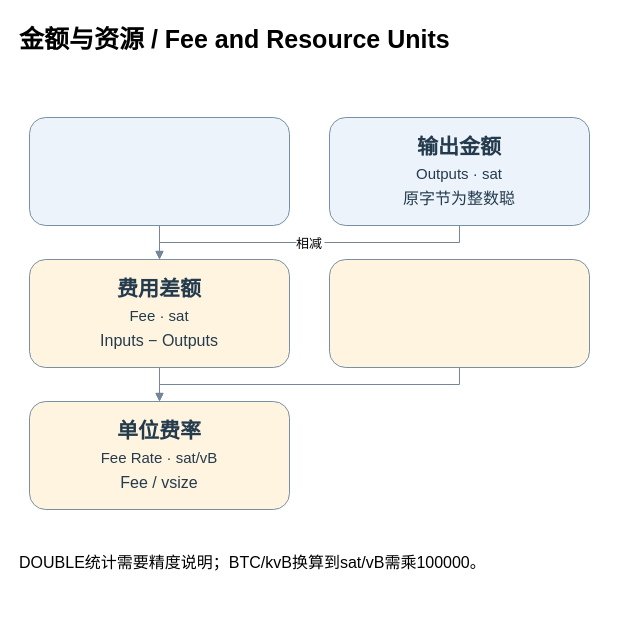
This 618x633 diagram has some shape labels left out. Here are the shapes that lost their labels. From the top down, the centre of each, then its label:
At (x=159, y=171): "输入金额 Inputs · sat 来自前序输出".
At (x=459, y=313): "虚拟大小 vsize · vB ceil(weight / 4)".
